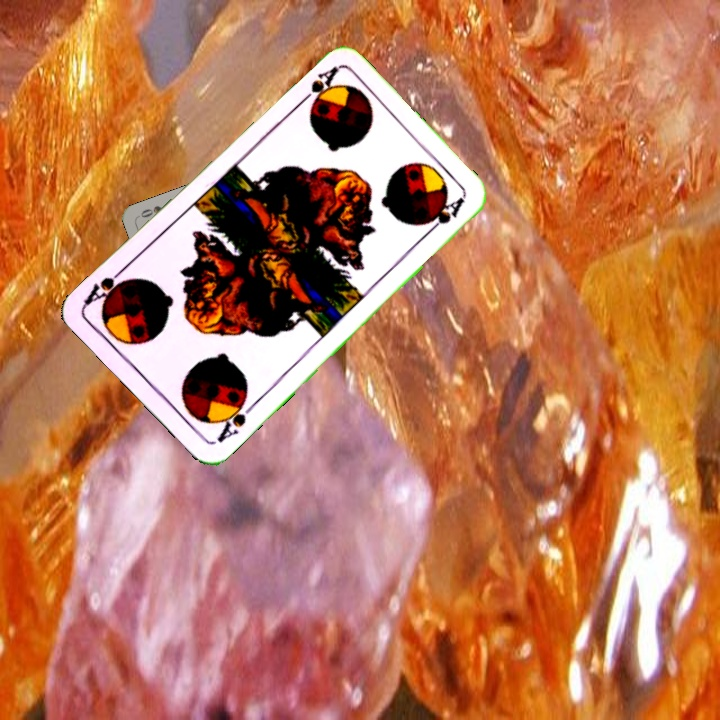SA: (212, 392, 259, 446), (293, 62, 340, 109)
